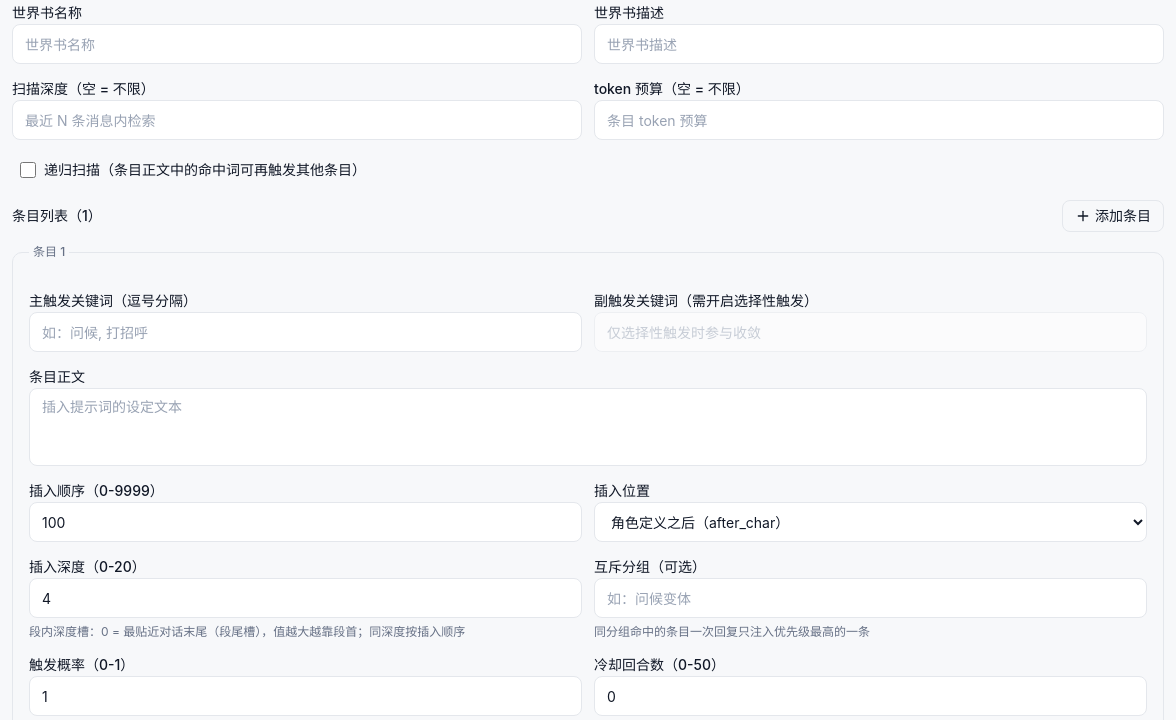
CharacterBookEditor › 书级元信息编辑（名称 / 描述 / 扫描深度 / token 预算 / 递归扫描）
Type "夜谈设定" into the field labelled "世界书名称" at (297, 44), box top-left (12, 24), bottom-right (582, 64)
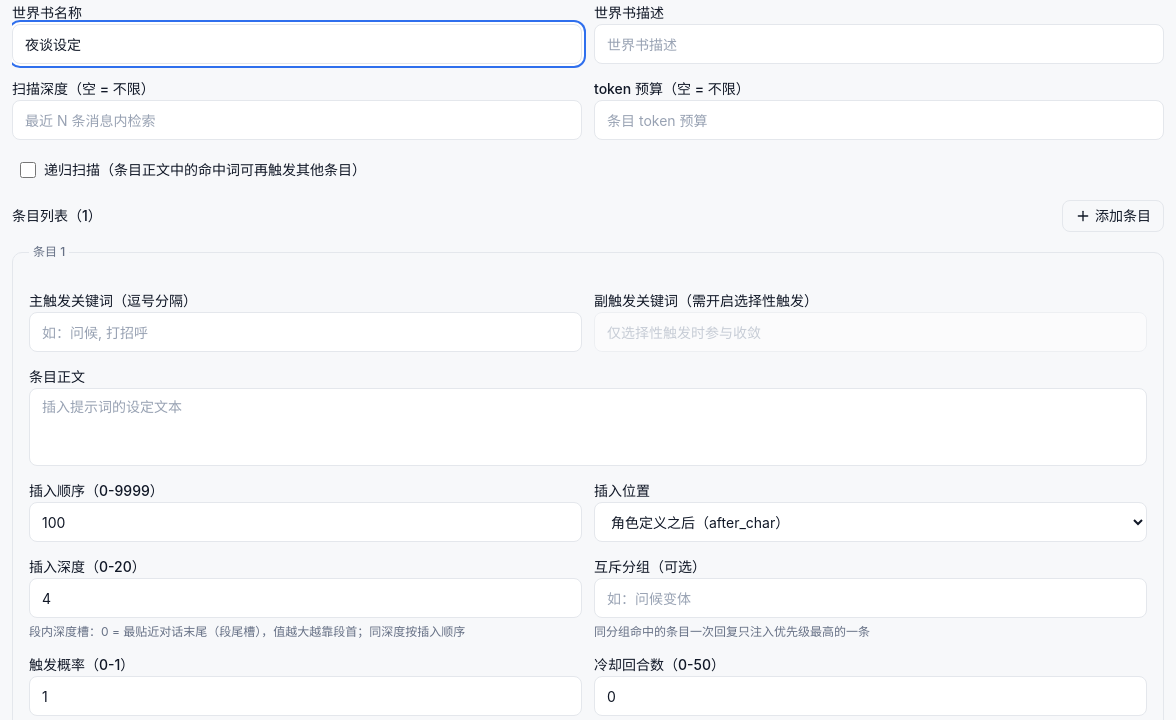
Type "夜间陪伴词库" into the field labelled "世界书描述" at (879, 44), box top-left (594, 24), bottom-right (1164, 64)
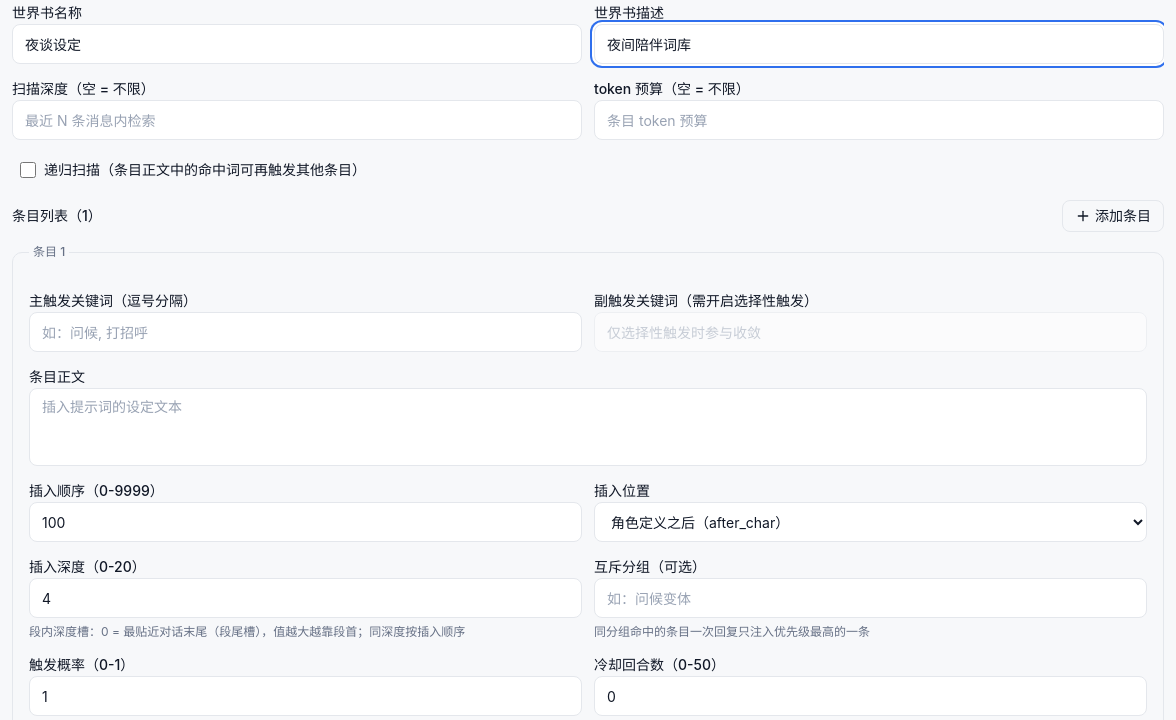
Type "5" into the field labelled "扫描深度（空 = 不限）" at (297, 120), box top-left (12, 100), bottom-right (582, 140)
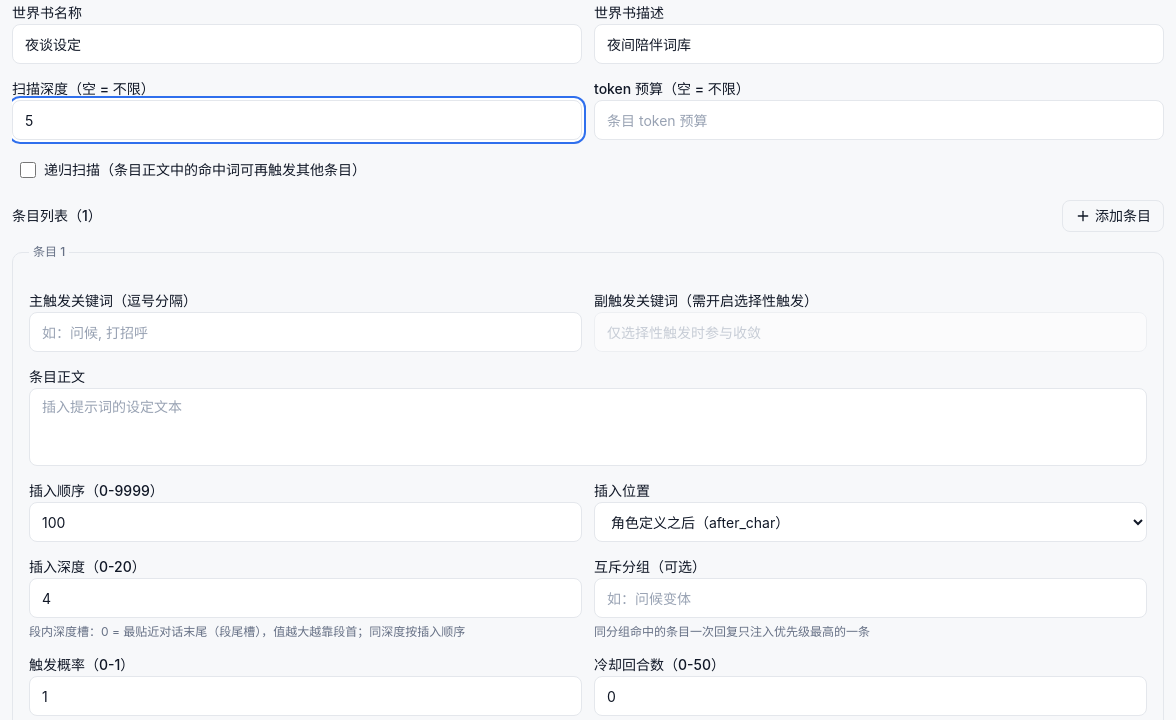
Type "800" into the field labelled "token 预算（空 = 不限）" at (879, 120), box top-left (594, 100), bottom-right (1164, 140)
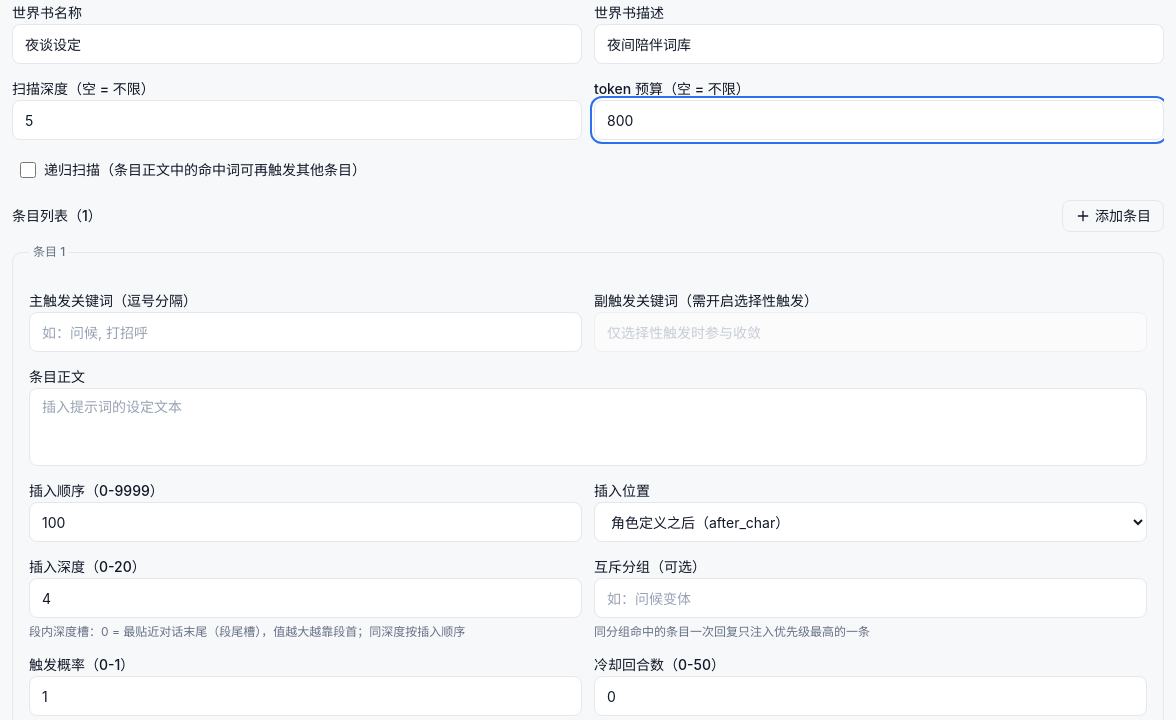
Click the checkbox labelled "递归扫描（条目正文中的命中词可再触发其他条目）" at (28, 170), box top-left (20, 162), bottom-right (36, 178)
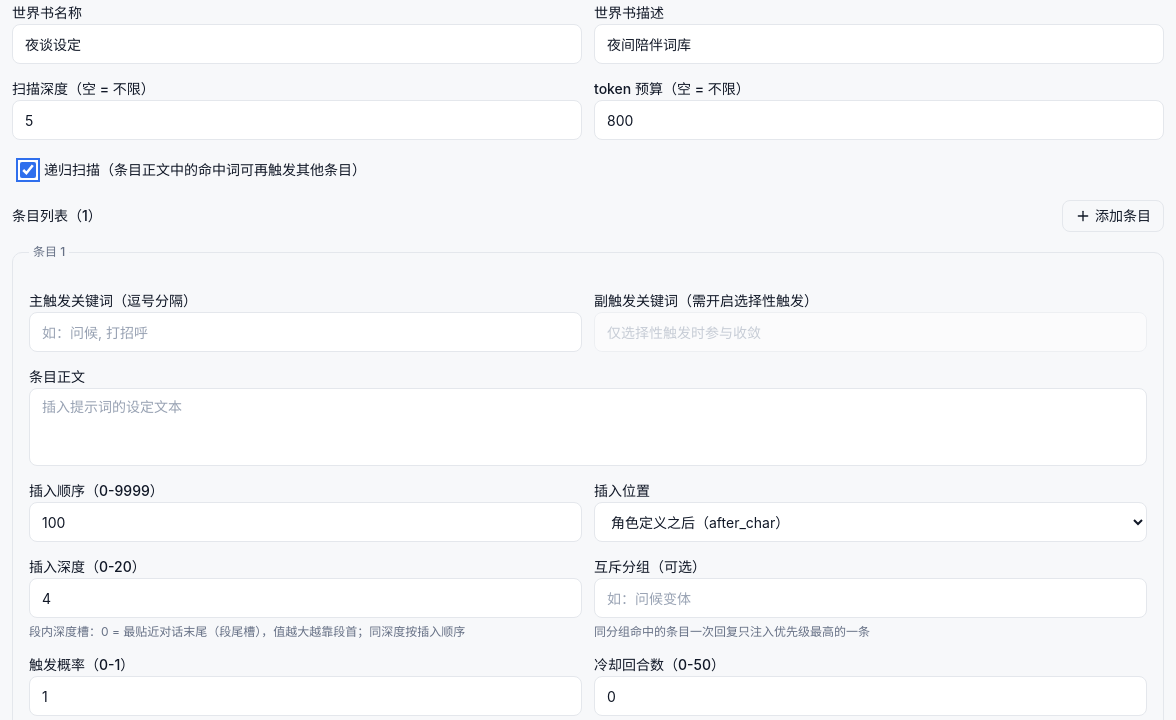
Expected: the checkbox labelled "递归扫描（条目正文中的命中词可再触发其他条目）" is checked, top-left (20, 162), bottom-right (36, 178)
